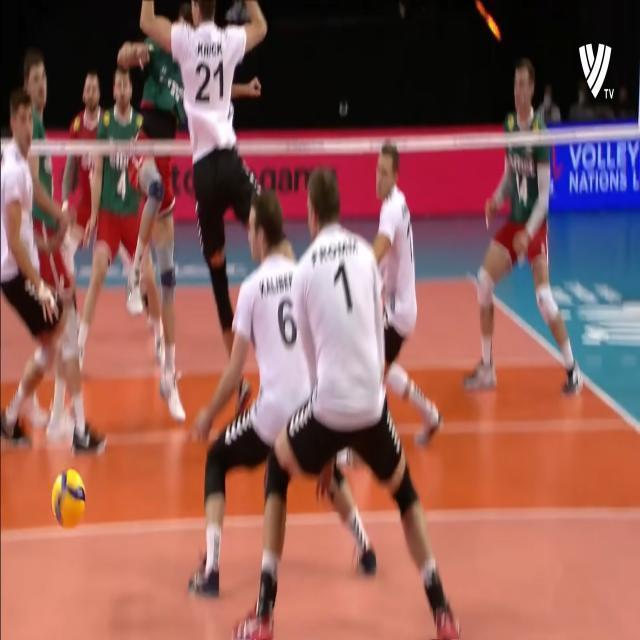volleyball: (51, 469, 85, 528)
